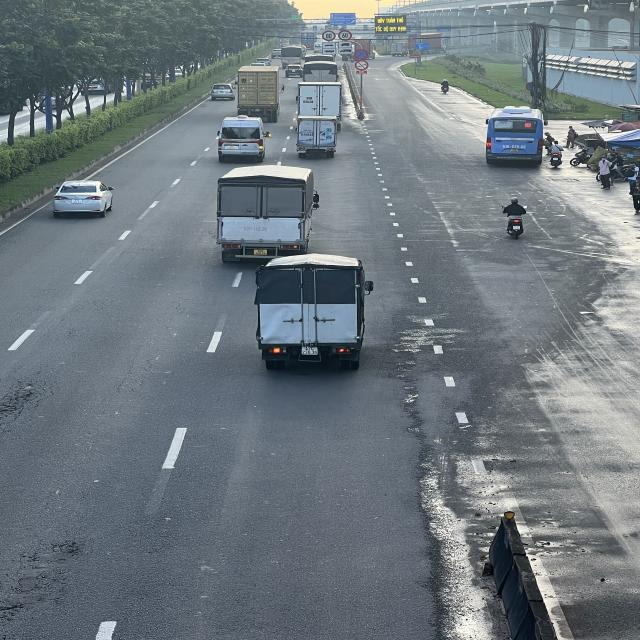car: (52, 181, 113, 217)
coach: (486, 106, 547, 168)
container: (235, 64, 279, 118)
truck: (258, 252, 376, 370), (216, 167, 321, 266), (295, 115, 337, 158), (296, 80, 342, 118), (281, 46, 303, 66)
van: (217, 116, 269, 163)
